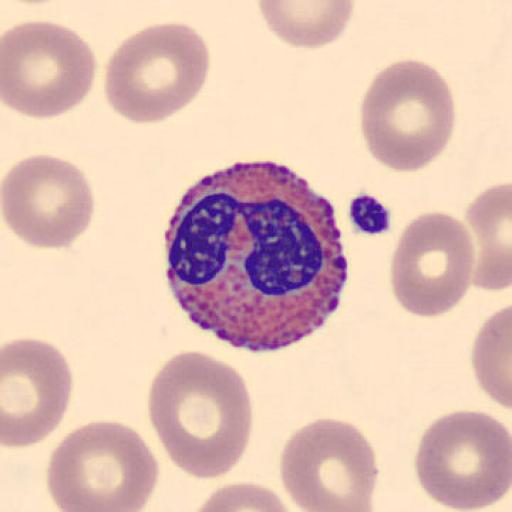Platelet: (345, 188, 396, 240)
RBC: (146, 348, 254, 482), (103, 20, 211, 125), (358, 58, 456, 173), (46, 419, 160, 512), (412, 408, 511, 512), (2, 18, 98, 122), (278, 416, 380, 512), (388, 210, 476, 320), (1, 152, 96, 250), (1, 336, 74, 448), (462, 180, 512, 294), (256, 0, 355, 49), (471, 303, 512, 411), (187, 479, 302, 512), (1, 0, 70, 4)
WBC: (163, 153, 350, 355)
